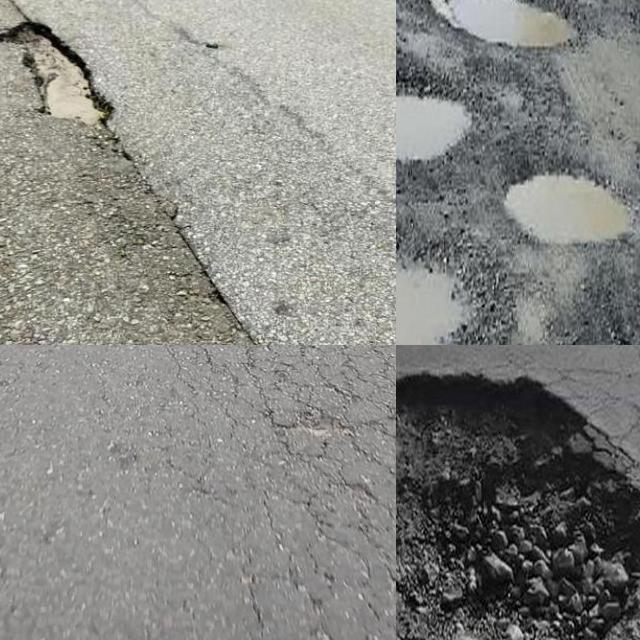Lubang: (396, 372, 637, 640), (489, 157, 640, 258), (12, 23, 113, 127), (396, 242, 488, 345), (396, 72, 488, 163), (431, 0, 586, 50)
Memanjang: (99, 128, 278, 345)
Retak Buaya: (150, 345, 396, 610)
